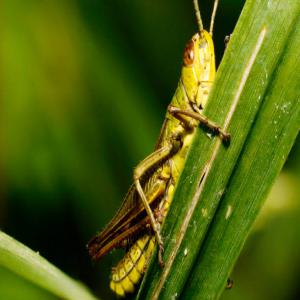locust: (84, 6, 240, 285)
